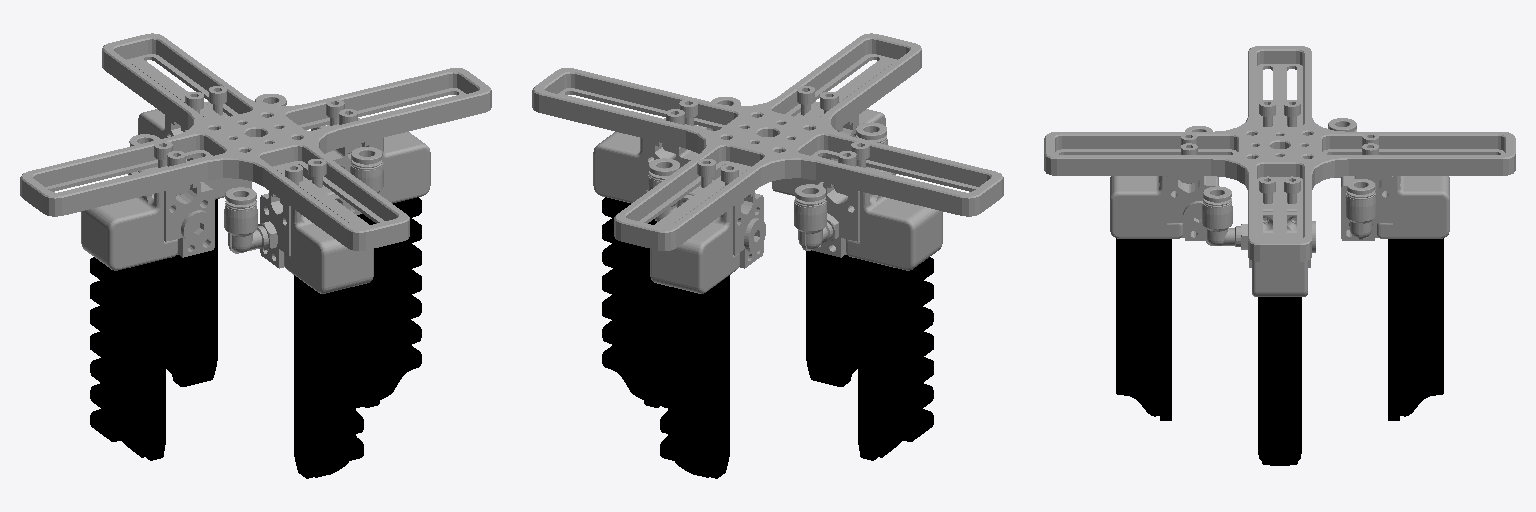
robot.urdf — rochu_4f:
<?xml version="1.0" encoding="utf-8"?>
<!-- This URDF was automatically created by SolidWorks to URDF Exporter! Originally created by [author] ([email redacted]) 
     Commit Version: 1.6.0-4-g7f85cfe  Build Version: 1.6.7995.38578
     For more information, please see http://wiki.ros.org/sw_urdf_exporter -->
<robot
  name="rochu_4f">
  <link
    name="base_link">
    <inertial>
      <origin
        xyz="9.252E-18 -5.9123E-19 -0.017289"
        rpy="0 0 0" />
      <mass
        value="0.10913" />
      <inertia
        ixx="6.1847E-05"
        ixy="1.5552E-20"
        ixz="4.23E-22"
        iyy="6.1847E-05"
        iyz="1.0454E-20"
        izz="0.00011456" />
    </inertial>
    <visual>
      <origin
        xyz="0 0 0"
        rpy="0 0 0" />
      <geometry>
        <mesh
          filename="../meshes/base_link.STL" />
      </geometry>
      <material
        name="">
        <color
          rgba="0.68627 0.68627 0.68627 1" />
      </material>
    </visual>
    <collision>
      <origin
        xyz="0 0 0"
        rpy="0 0 0" />
      <geometry>
        <mesh
          filename="../meshes/base_link.STL" />
      </geometry>
    </collision>
  </link>
  <link
    name="finger_1_link">
    <inertial>
      <origin
        xyz="0.010413 0.029604 2.9855E-08"
        rpy="0 0 0" />
      <mass
        value="0.034805" />
      <inertia
        ixx="2.9064E-05"
        ixy="8.9582E-07"
        ixz="-1.0727E-11"
        iyy="2.2306E-06"
        iyz="-7.7005E-10"
        izz="2.9547E-05" />
    </inertial>
    <visual>
      <origin
        xyz="0 0 0"
        rpy="0 0 0" />
      <geometry>
        <mesh
          filename="../meshes/finger_1_link.STL" />
      </geometry>
      <material
        name="">
        <color
          rgba="0 0 0 1" />
      </material>
    </visual>
    <collision>
      <origin
        xyz="0 0 0"
        rpy="0 0 0" />
      <geometry>
        <mesh
          filename="../meshes/finger_1_link.STL" />
      </geometry>
    </collision>
  </link>
  <joint
    name="finger_1_joint"
    type="revolute">
    <origin
      xyz="0.044 0 -0.03755"
      rpy="-1.5708 0 0" />
    <parent
      link="base_link" />
    <child
      link="finger_1_link" />
    <axis
      xyz="0 0 1" />
    <limit
      lower="-0.3725"
      upper="0.785"
      effort="0.785"
      velocity="0.785" />
  </joint>
  <link
    name="finger_2_link">
    <inertial>
      <origin
        xyz="0.010413 0.029604 2.9691E-08"
        rpy="0 0 0" />
      <mass
        value="0.034805" />
      <inertia
        ixx="2.9064E-05"
        ixy="8.9582E-07"
        ixz="-1.0751E-11"
        iyy="2.2306E-06"
        iyz="-7.7027E-10"
        izz="2.9547E-05" />
    </inertial>
    <visual>
      <origin
        xyz="0 0 0"
        rpy="0 0 0" />
      <geometry>
        <mesh
          filename="../meshes/finger_2_link.STL" />
      </geometry>
      <material
        name="">
        <color
          rgba="0 0 0 1" />
      </material>
    </visual>
    <collision>
      <origin
        xyz="0 0 0"
        rpy="0 0 0" />
      <geometry>
        <mesh
          filename="../meshes/finger_2_link.STL" />
      </geometry>
    </collision>
  </link>
  <joint
    name="finger_2_joint"
    type="revolute">
    <origin
      xyz="0 0.044 -0.03755"
      rpy="-1.5708 0 1.5708" />
    <parent
      link="base_link" />
    <child
      link="finger_2_link" />
    <axis
      xyz="0 0 1" />
    <limit
      lower="-0.3725"
      upper="0.785"
      effort="0.785"
      velocity="0.785" />
  </joint>
  <link
    name="finger_3_link">
    <inertial>
      <origin
        xyz="-0.010413 -0.029604 2.9855E-08"
        rpy="0 0 0" />
      <mass
        value="0.034805" />
      <inertia
        ixx="2.9064E-05"
        ixy="8.9582E-07"
        ixz="1.0727E-11"
        iyy="2.2306E-06"
        iyz="7.7005E-10"
        izz="2.9547E-05" />
    </inertial>
    <visual>
      <origin
        xyz="0 0 0"
        rpy="0 0 0" />
      <geometry>
        <mesh
          filename="../meshes/finger_3_link.STL" />
      </geometry>
      <material
        name="">
        <color
          rgba="0 0 0 1" />
      </material>
    </visual>
    <collision>
      <origin
        xyz="0 0 0"
        rpy="0 0 0" />
      <geometry>
        <mesh
          filename="../meshes/finger_3_link.STL" />
      </geometry>
    </collision>
  </link>
  <joint
    name="finger_3_joint"
    type="revolute">
    <origin
      xyz="-0.044 0 -0.03755"
      rpy="1.5708 0 0" />
    <parent
      link="base_link" />
    <child
      link="finger_3_link" />
    <axis
      xyz="0 0 1" />
    <limit
      lower="-0.3725"
      upper="0.785"
      effort="0.785"
      velocity="0.785" />
  </joint>
  <link
    name="finger_4_link">
    <inertial>
      <origin
        xyz="-0.010413 -0.029604 2.9855E-08"
        rpy="0 0 0" />
      <mass
        value="0.034805" />
      <inertia
        ixx="2.9064E-05"
        ixy="8.9582E-07"
        ixz="1.0727E-11"
        iyy="2.2306E-06"
        iyz="7.7005E-10"
        izz="2.9547E-05" />
    </inertial>
    <visual>
      <origin
        xyz="0 0 0"
        rpy="0 0 0" />
      <geometry>
        <mesh
          filename="../meshes/finger_4_link.STL" />
      </geometry>
      <material
        name="">
        <color
          rgba="0 0 0 1" />
      </material>
    </visual>
    <collision>
      <origin
        xyz="0 0 0"
        rpy="0 0 0" />
      <geometry>
        <mesh
          filename="../meshes/finger_4_link.STL" />
      </geometry>
    </collision>
  </link>
  <joint
    name="finger_4_joint"
    type="revolute">
    <origin
      xyz="0 -0.044 -0.03755"
      rpy="1.5708 0 1.5708" />
    <parent
      link="base_link" />
    <child
      link="finger_4_link" />
    <axis
      xyz="0 0 1" />
    <limit
      lower="-0.3725"
      upper="0.785"
      effort="0.785"
      velocity="0.785" />
  </joint>
</robot>

--- Facts derived from the render (not from the file) ---
The picture shows the robot from 3 angles, left to right: view 1: azimuth 30°, elevation 25°; view 2: azimuth 150°, elevation 25°; view 3: azimuth 270°, elevation 25°; orthographic projection.
Model rochu_4f with 5 links and 4 joints (4 revolute), rooted at base_link, posed all joints at 0.
Visible links, largest first — view 1: base_link, finger_3_link, finger_4_link, finger_1_link, finger_2_link; view 2: base_link, finger_3_link, finger_2_link, finger_1_link, finger_4_link; view 3: base_link, finger_2_link, finger_4_link, finger_1_link.
Boxes of the visible links, box(x1,y1,x2,y2) form: base_link: box(20, 33, 491, 293); finger_3_link: box(90, 257, 165, 460); finger_4_link: box(294, 275, 364, 478); finger_1_link: box(356, 197, 421, 407); finger_2_link: box(166, 199, 217, 386); base_link: box(532, 33, 1003, 293); finger_3_link: box(858, 257, 933, 460); finger_2_link: box(659, 275, 729, 478); finger_1_link: box(602, 197, 667, 407); finger_4_link: box(806, 250, 857, 386); base_link: box(1044, 46, 1515, 296); finger_2_link: box(1388, 238, 1443, 420); finger_4_link: box(1116, 238, 1171, 420); finger_1_link: box(1258, 297, 1301, 465).
Bounding box of the posed robot: 0.192 × 0.192 × 0.1227 m (x, y, z).
5 mesh visuals loaded from 5 distinct referenced files (5 binary STL).
